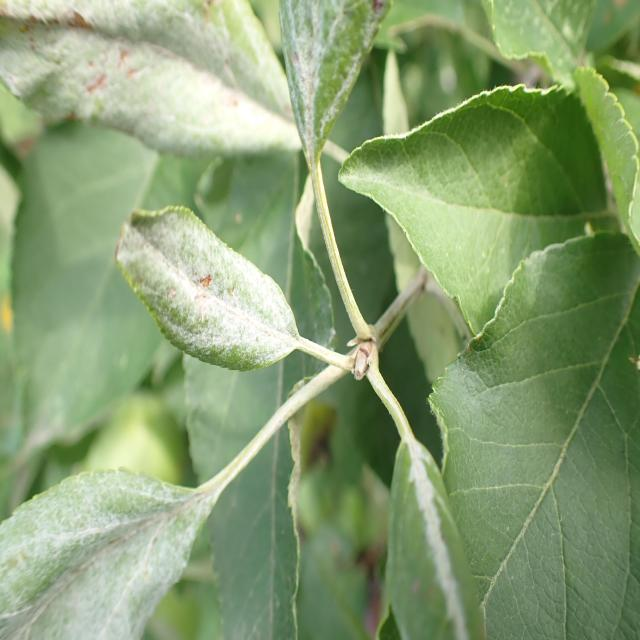Powdery_mildew: (0, 0, 329, 172), (0, 450, 220, 640), (98, 170, 297, 373), (268, 0, 384, 160)
